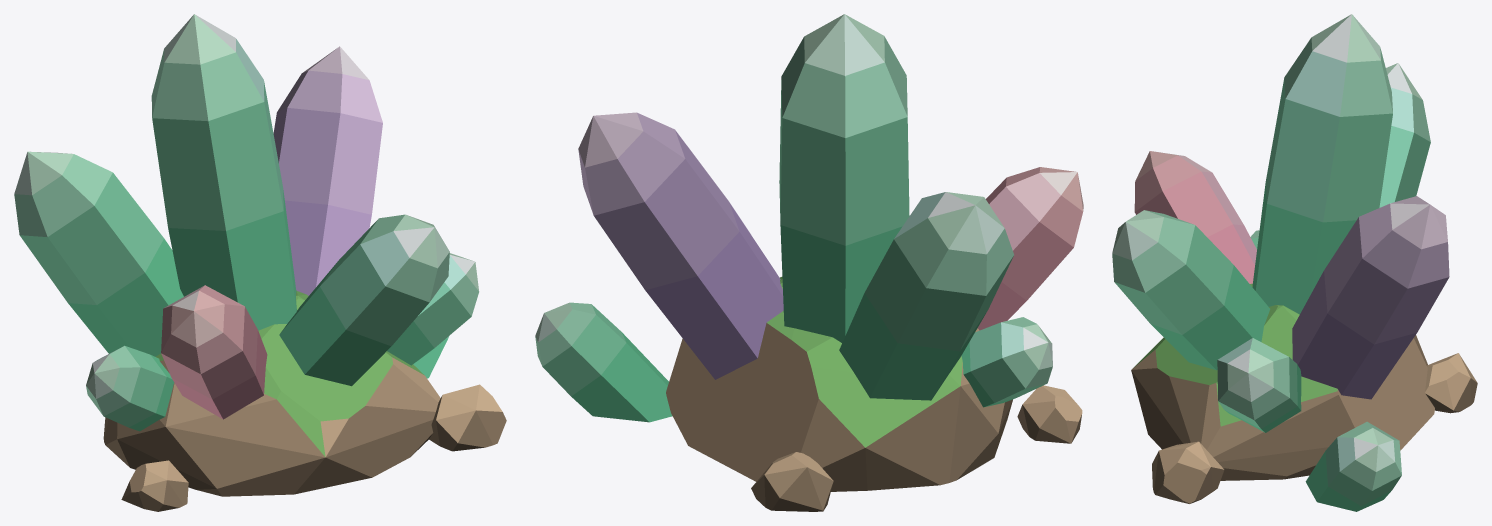
Rendered from decor_goo_crystals.fbx.
3 renders of one model, left to right at view 1: azimuth 30°, elevation 25°; view 2: azimuth 150°, elevation 25°; view 3: azimuth 270°, elevation 25°, orthographic. The views are drawn at different scales.
Visible parts, largest first — view 1: decor_goo_crystals; view 2: decor_goo_crystals; view 3: decor_goo_crystals.
Boxes of the visible parts, x1=… form: decor_goo_crystals: x1=14, y1=14, x2=506, y2=511; decor_goo_crystals: x1=535, y1=14, x2=1083, y2=511; decor_goo_crystals: x1=1112, y1=14, x2=1477, y2=511.
Bounding box in the file's own units: 4.33 × 3.96 × 3.39.
